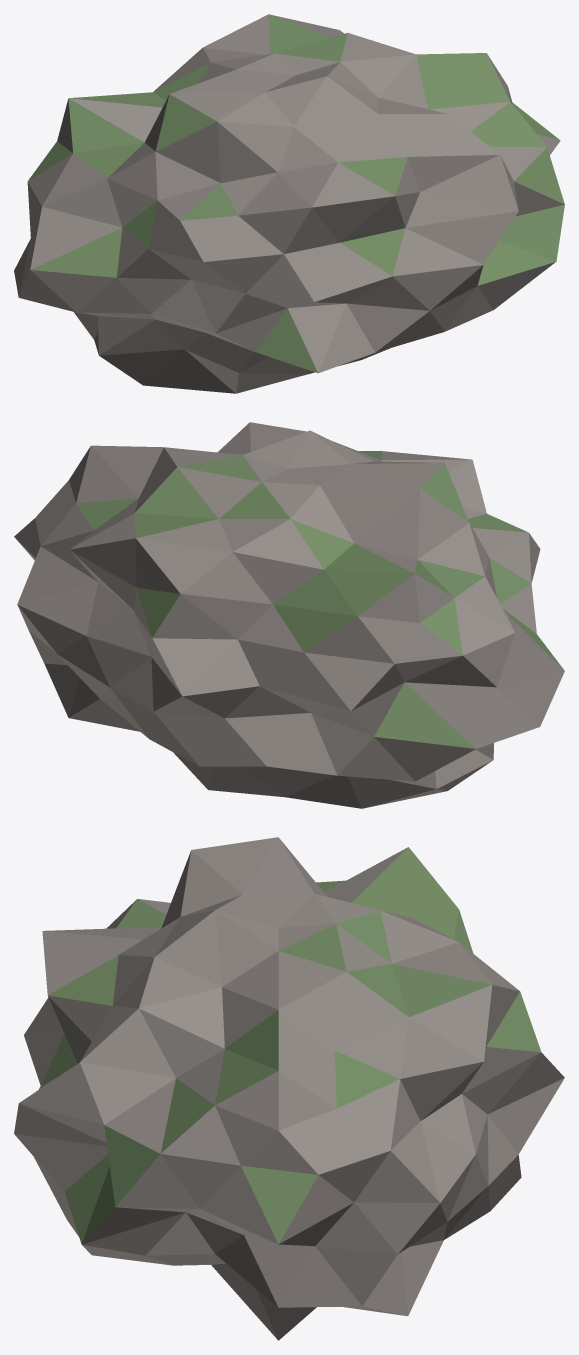
Rendered from boulder_a.glb.
3 renders of one model, top to bottom at view 1: azimuth 30°, elevation 25°; view 2: azimuth 150°, elevation 25°; view 3: azimuth 270°, elevation 25°, orthographic. The views are drawn at different scales.
Parts seen in each view (by area): view 1: boulder_a; view 2: boulder_a; view 3: boulder_a.
Boxes of the visible parts, x1,y1,x2,y2 form: boulder_a: [14, 14, 564, 393]; boulder_a: [14, 422, 564, 808]; boulder_a: [14, 837, 564, 1340].
Bounding box in the file's own units: 3.29 × 1.84 × 2.42.
